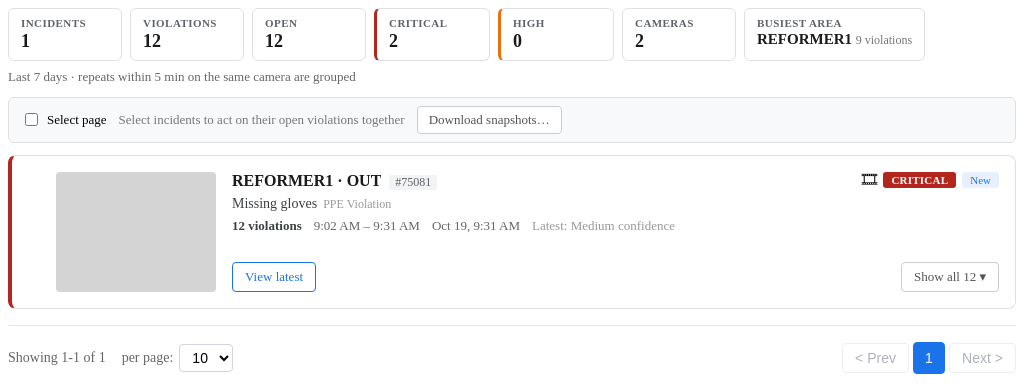
AlertsList actions go through POST /violations/bulk › bulk review and dismiss are disabled when nothing open is selected
The width and height of the screenshot is (1024, 391).
Click the checkbox labelled "Select page" at (32, 120), box [25, 113, 38, 126]
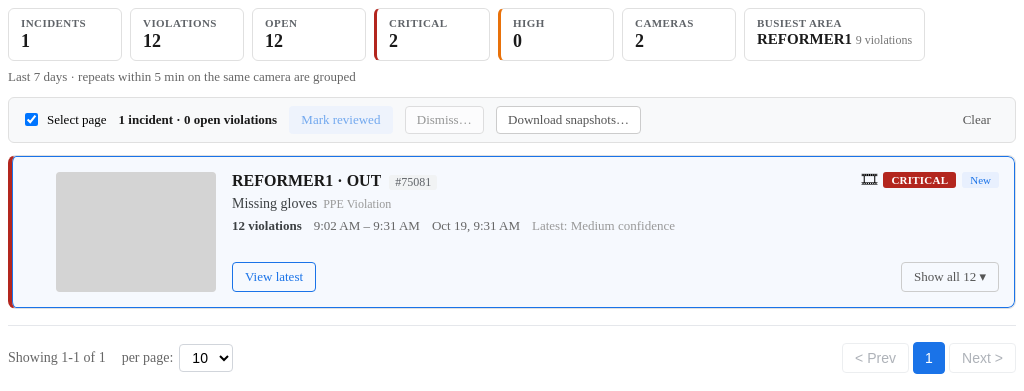
Check: the text with class "alerts-list__bulk-count" reads "1 incident · 0 open violations", box [119, 112, 277, 128]
Check: the button "Mark reviewed" is disabled, box [289, 106, 392, 134]
Check: the button "Dismiss…" is disabled, box [405, 106, 484, 134]
